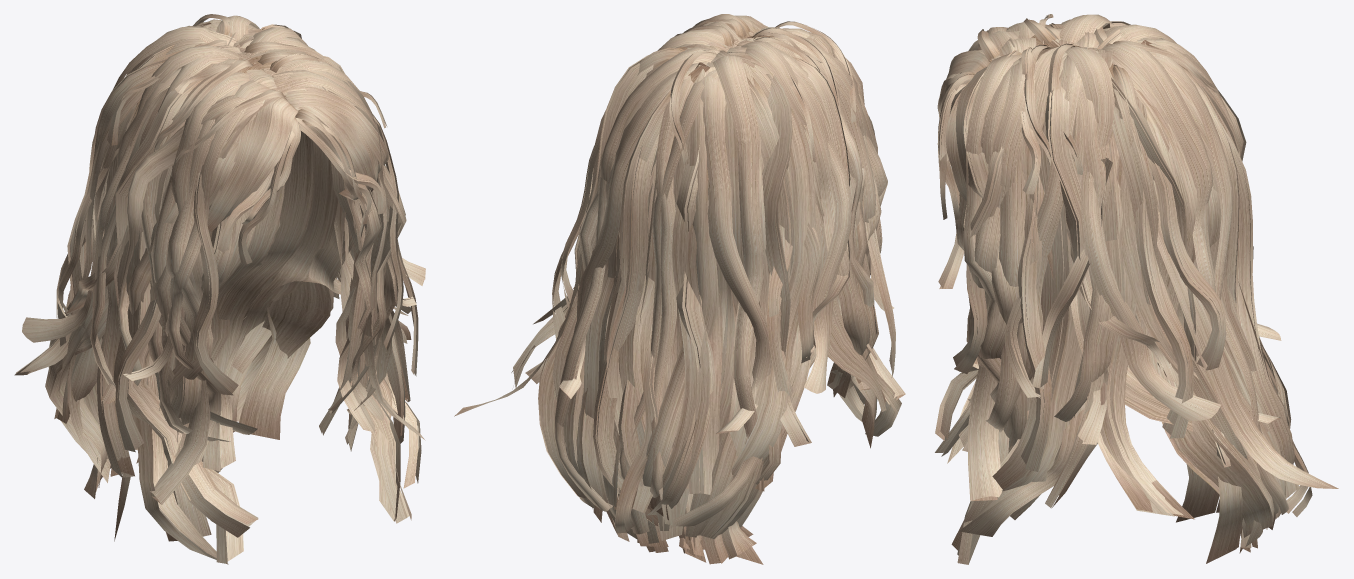
Rendered from womanhair1-transformed.glb.
3 views of the same model, side by side, from view 1: azimuth 30°, elevation 25°; view 2: azimuth 150°, elevation 25°; view 3: azimuth 270°, elevation 25° (orthographic). The views are drawn at different scales.
Parts seen in each view (by area): view 1: Object_5; view 2: Object_5; view 3: Object_5.
Part boxes in pixels (x1=…): Object_5: x1=14, y1=14, x2=425, y2=564; Object_5: x1=454, y1=14, x2=905, y2=564; Object_5: x1=935, y1=14, x2=1338, y2=564.
Bounding box in the file's own units: 15.14 × 21.11 × 14.71.
Materials: 2 (2 with a texture image).
